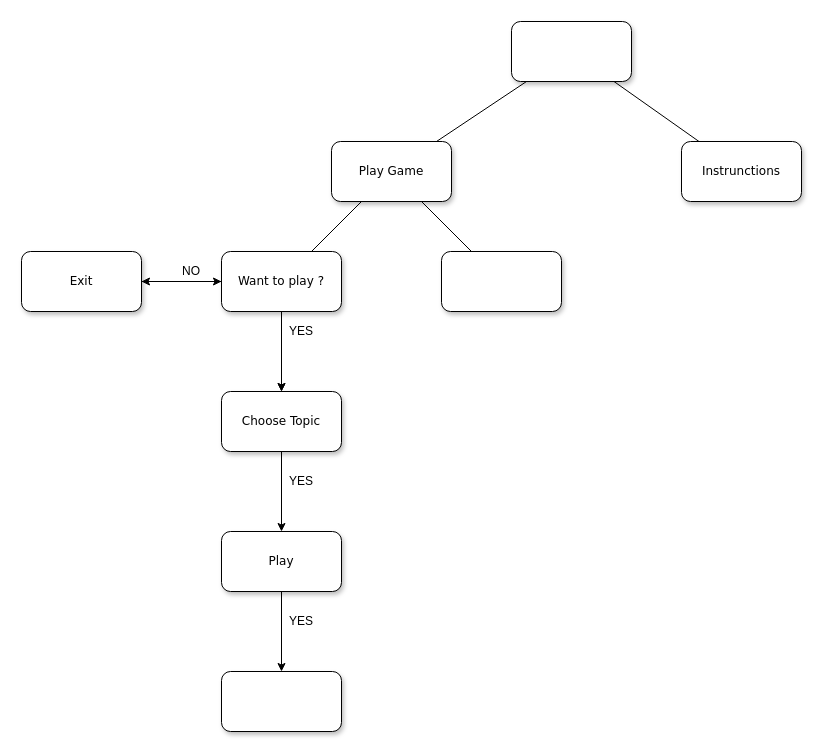
Some shapes in this 825 by 756 pixel diagram are drawn without their labels. The centre of each missing label's shape, as x and y in pixels:
"Result & Solution" goes at [282,702].
"See Top Players" goes at [502,282].
"User" goes at [572,52].
